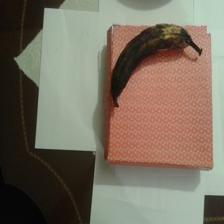Banana Rotten: (103, 23, 207, 106)
